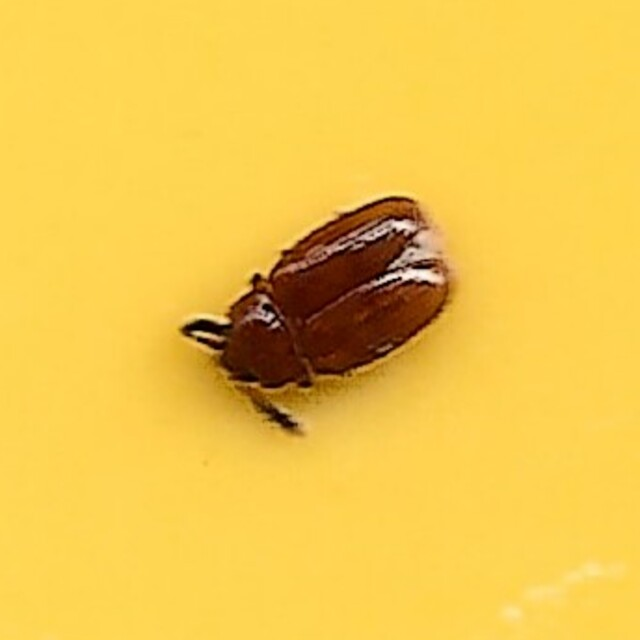Coleoptera: (186, 192, 454, 448)
